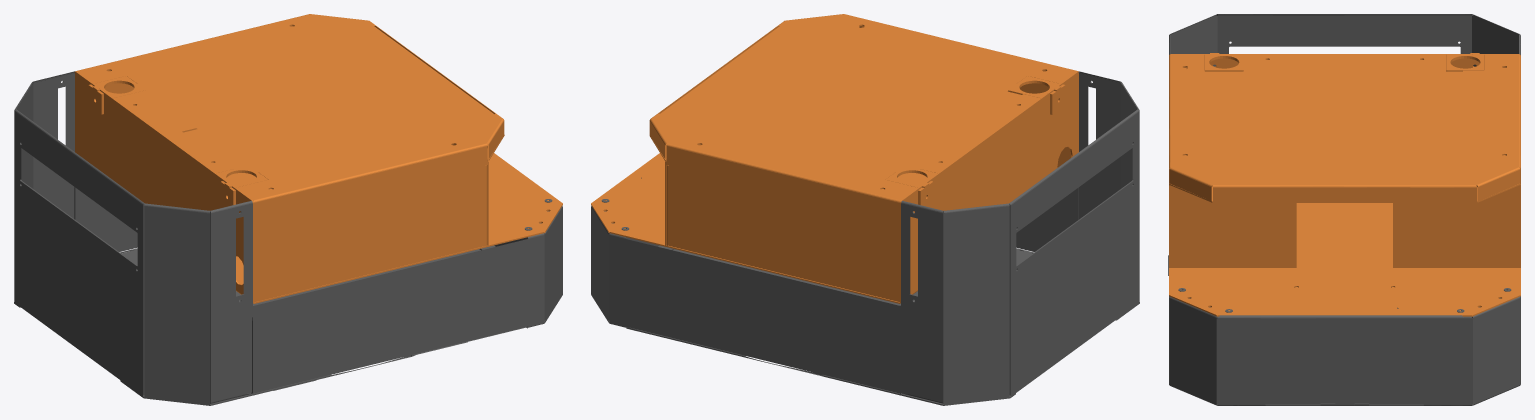
The model's file is optimized_volta.dae.
3 renders of one model, left to right at view 1: azimuth 30°, elevation 25°; view 2: azimuth 150°, elevation 25°; view 3: azimuth 270°, elevation 25°, orthographic.
Visible parts, largest first — view 1: BL30 urdf orange, BL30 urdf black; view 2: BL30 urdf orange, BL30 urdf black; view 3: BL30 urdf orange, BL30 urdf black.
Part boxes in pixels (x1=…): BL30 urdf orange: x1=74, y1=14, x2=562, y2=303; BL30 urdf black: x1=14, y1=71, x2=562, y2=405; BL30 urdf orange: x1=591, y1=14, x2=1078, y2=303; BL30 urdf black: x1=591, y1=71, x2=1139, y2=405; BL30 urdf orange: x1=1169, y1=53, x2=1520, y2=316; BL30 urdf black: x1=1168, y1=14, x2=1520, y2=405.
Size of the model in its own units: 0.495 by 0.3658 by 0.219.
